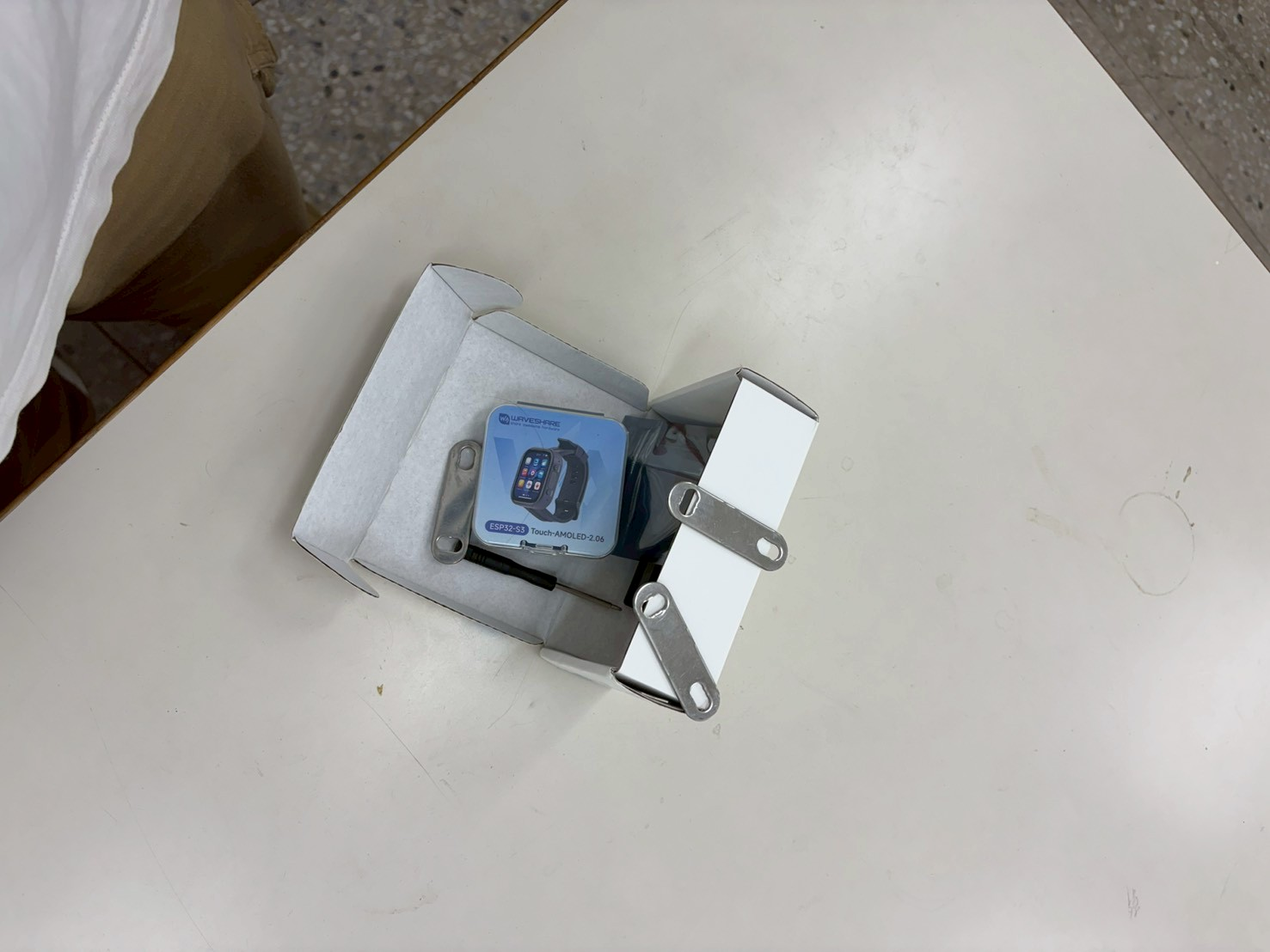Fe: (623, 588, 670, 746), (656, 514, 704, 652), (451, 429, 492, 569)
